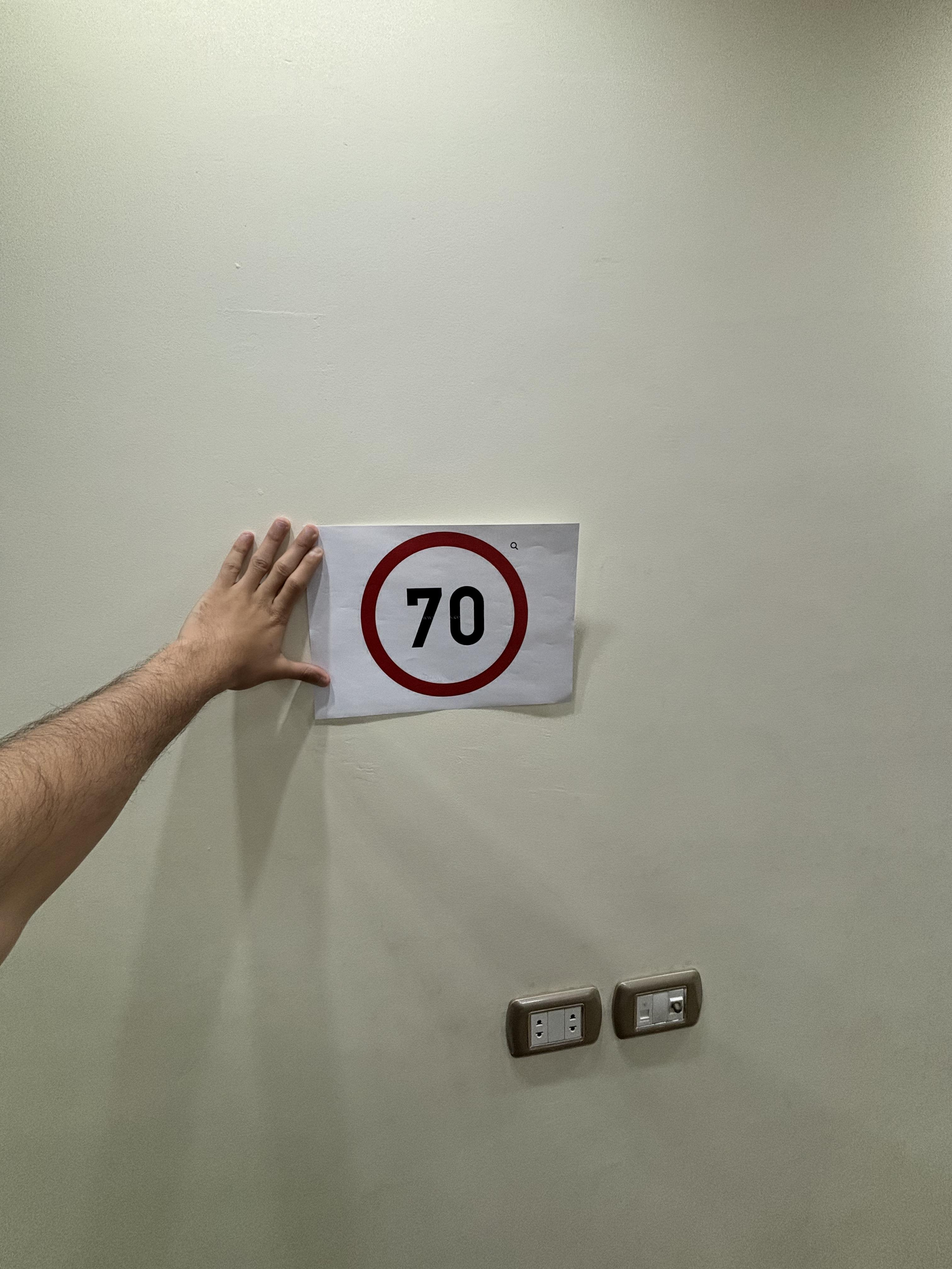70-Speed: (354, 532, 535, 699)
